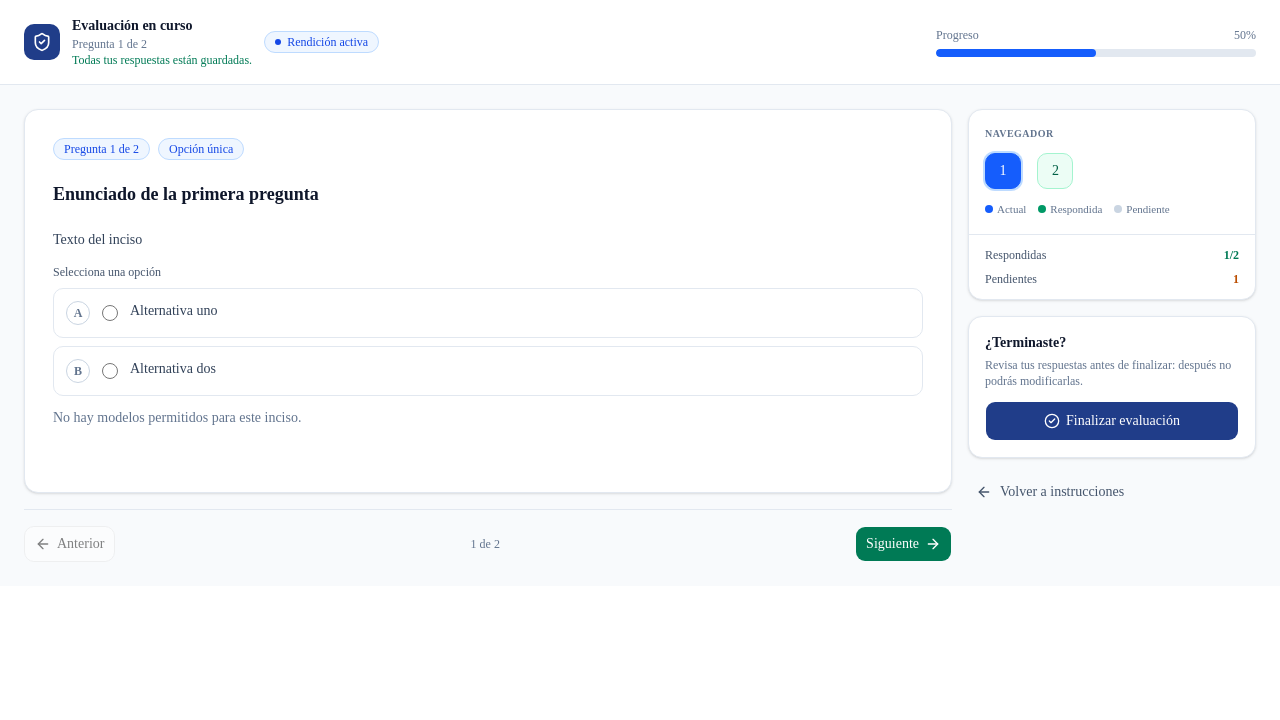
RendicionEvaluacion › navega entre preguntas mediante botones y navegador
Click the button "Siguiente" at (904, 544), box [855,526,952,562]
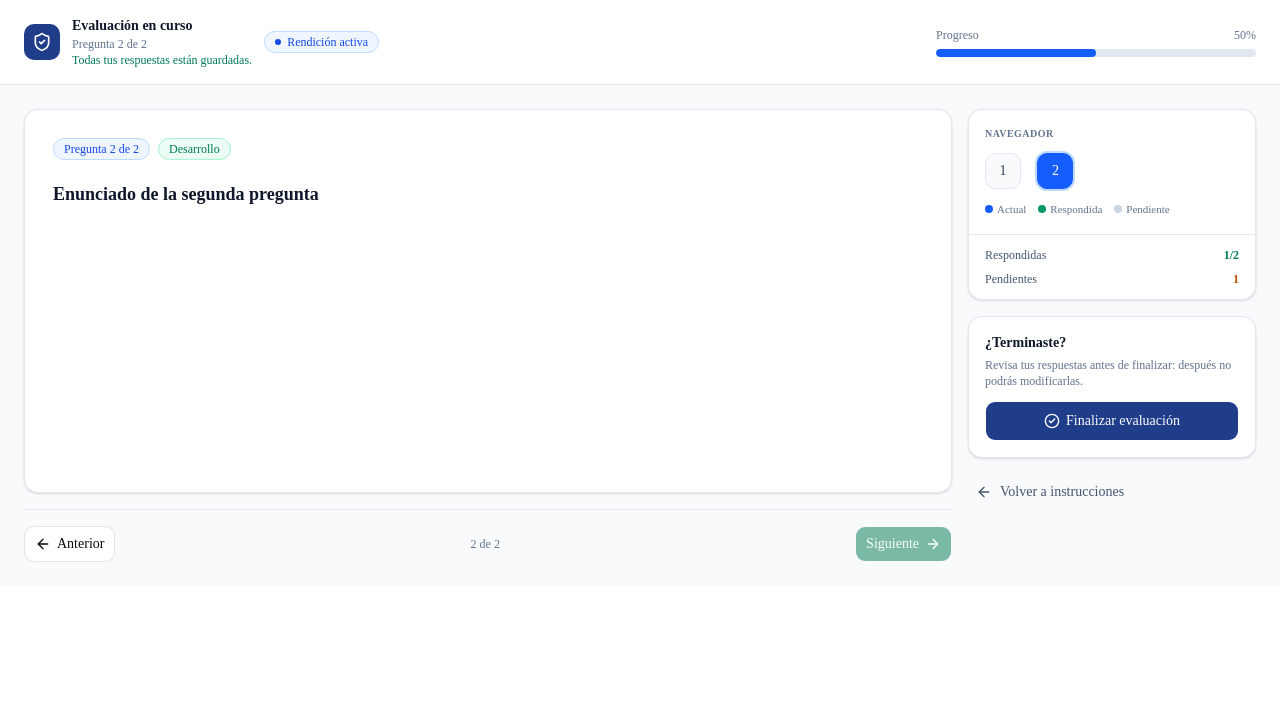
expect the heading "Enunciado de la segunda pregunta" is shown: met, box [53,184,319,204]
expect the button "Siguiente" is disabled: met, box [855,526,952,562]
Click the button named "Pregunta 1, pendiente" at (1003, 171), box [985,153,1021,189]
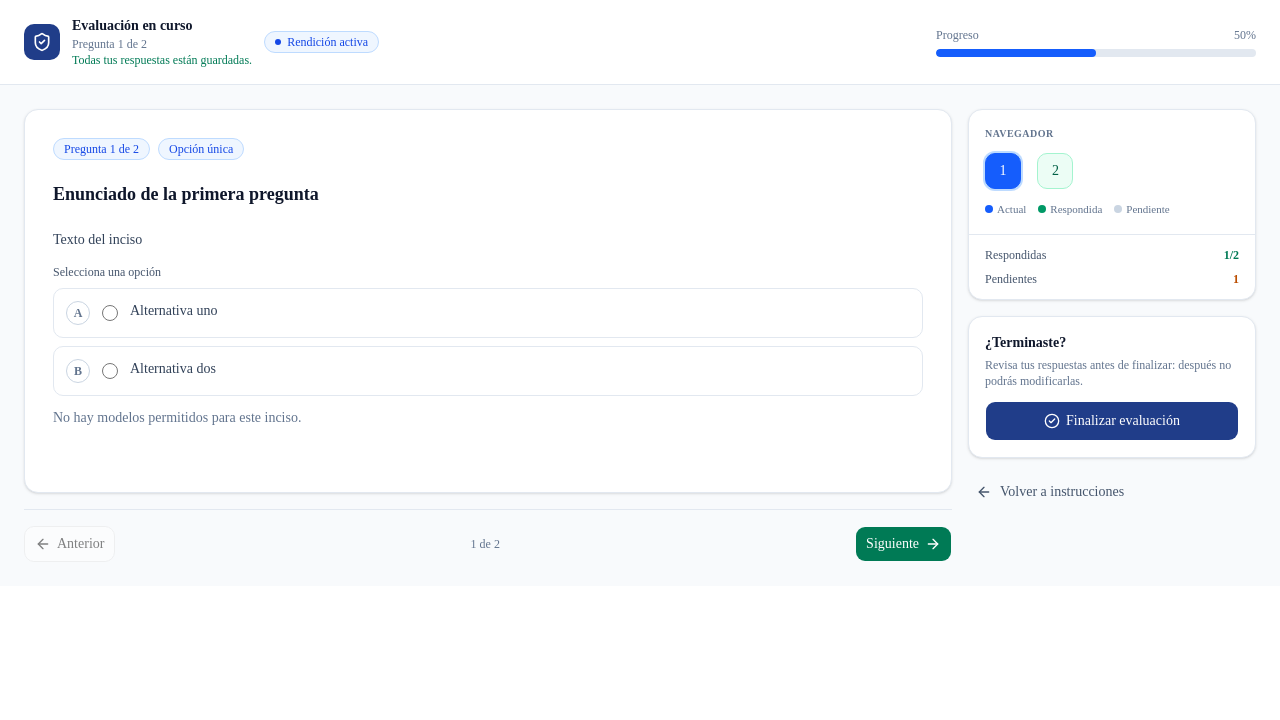
expect the heading "Enunciado de la primera pregunta" is shown: met, box [53,184,319,204]
